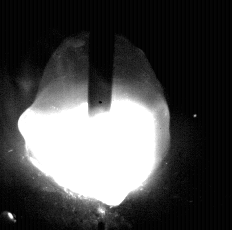arame: (88, 0, 113, 117)
poca: (16, 0, 170, 230)
